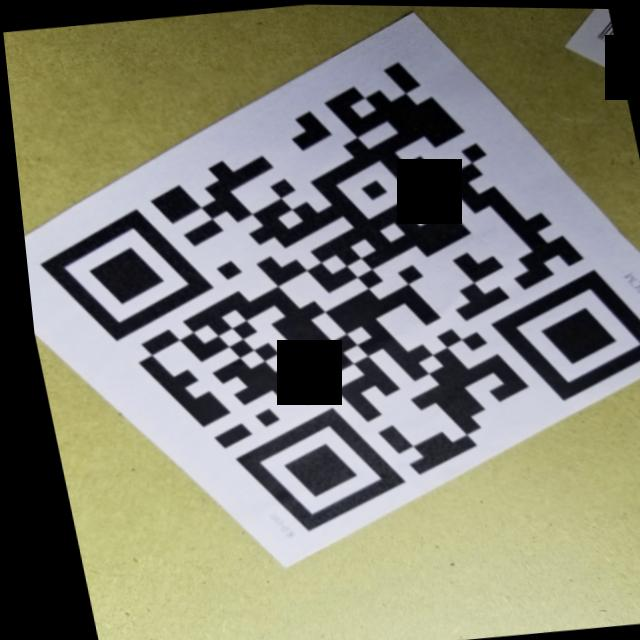QR_CODE: (2, 24, 640, 567)
